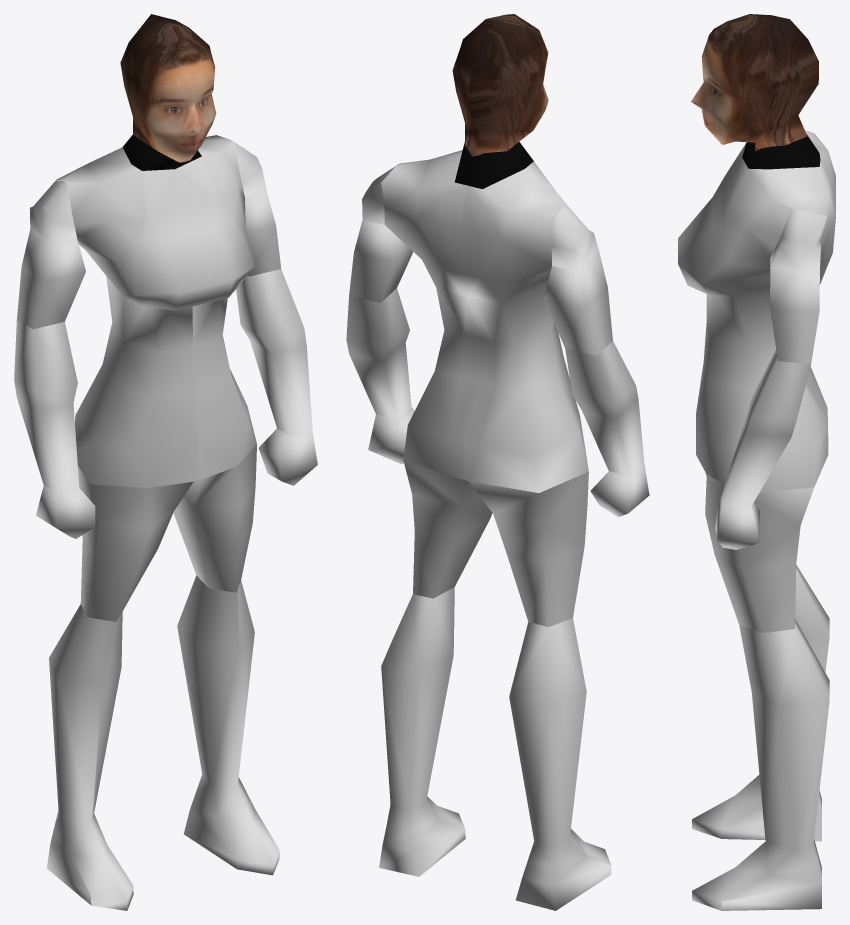
Rendered from heroine.glb.
3 renders of one model, left to right at view 1: azimuth 30°, elevation 25°; view 2: azimuth 150°, elevation 25°; view 3: azimuth 270°, elevation 25°, orthographic.
Parts seen in each view (by area): view 1: Heroine, Lower Left Leg, Lower Right Leg, Head, Lower Right Arm, Lower Left Arm, Upper Right Leg, Upper Left Leg, Upper Right Arm, Upper Left Arm; view 2: Heroine, Lower Right Leg, Lower Left Leg, Head, Upper Right Leg, Lower Right Arm, Lower Left Arm, Upper Left Leg, Upper Right Arm, Upper Left Arm; view 3: Heroine, Lower Left Leg, Head, Upper Left Leg, Lower Left Arm, Upper Left Arm, Lower Right Leg.
Part boxes in pixels (x1,y1,x2,y2): Heroine: [55, 135, 256, 487]; Lower Left Leg: [177, 575, 279, 875]; Lower Right Leg: [47, 604, 133, 910]; Head: [120, 14, 216, 170]; Lower Right Arm: [14, 320, 95, 538]; Lower Left Arm: [236, 269, 317, 485]; Upper Right Leg: [78, 466, 193, 621]; Upper Left Leg: [173, 444, 256, 592]; Upper Right Arm: [17, 180, 85, 329]; Upper Left Arm: [234, 142, 281, 276]; Heroine: [381, 150, 588, 492]; Lower Right Leg: [509, 618, 611, 910]; Lower Left Leg: [379, 587, 465, 876]; Head: [452, 14, 548, 189]; Upper Right Leg: [469, 471, 588, 626]; Lower Right Arm: [565, 341, 649, 517]; Lower Left Arm: [346, 288, 414, 464]; Upper Left Leg: [403, 460, 492, 598]; Upper Right Arm: [543, 204, 612, 355]; Upper Left Arm: [349, 165, 412, 302]; Heroine: [678, 130, 835, 493]; Lower Left Leg: [692, 619, 829, 910]; Head: [691, 14, 820, 169]; Upper Left Leg: [705, 475, 814, 633]; Lower Left Arm: [715, 349, 810, 549]; Upper Left Arm: [770, 209, 827, 364]; Lower Right Leg: [692, 565, 829, 841].
Bounding box in the file's own units: 0.5542 × 1.68 × 0.2824.
Materials: 2 (1 with a texture image).
